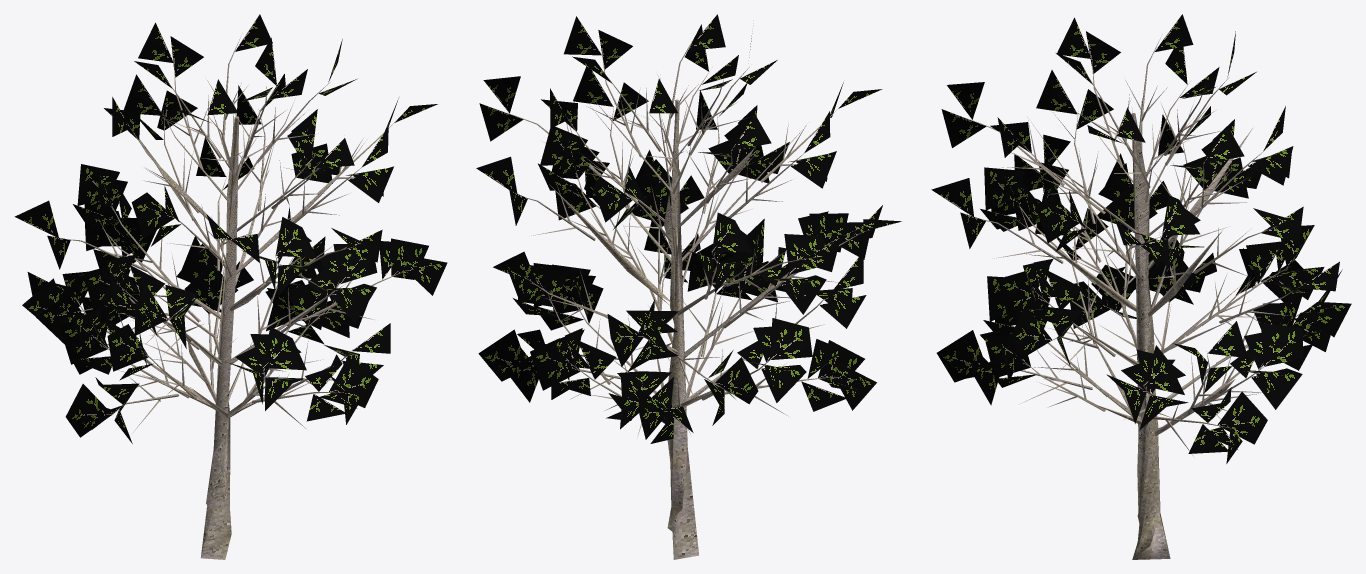
The model's file is tree_beech_lo.glb.
3 views of the same model, side by side, from view 1: azimuth 30°, elevation 25°; view 2: azimuth 150°, elevation 25°; view 3: azimuth 270°, elevation 25° (orthographic). The views are drawn at different scales.
Parts seen in each view (by area): view 1: m; view 2: m; view 3: m.
Boxes of the visible parts, box(x1,y1,x2,y2) form: m: box(14, 14, 447, 559); m: box(476, 14, 901, 559); m: box(931, 14, 1351, 559).
Bounding box in the file's own units: 0.7609 × 0.9703 × 0.7045.
Materials: 2 (2 with a texture image).
